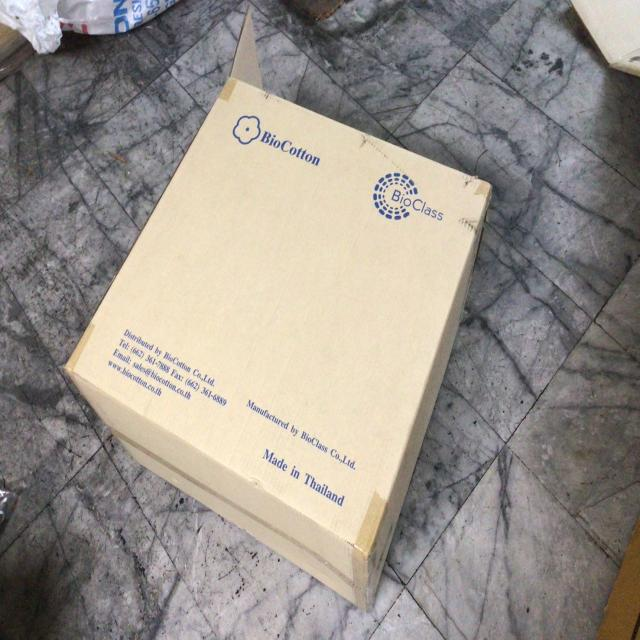cardboard: (65, 79, 497, 621)
